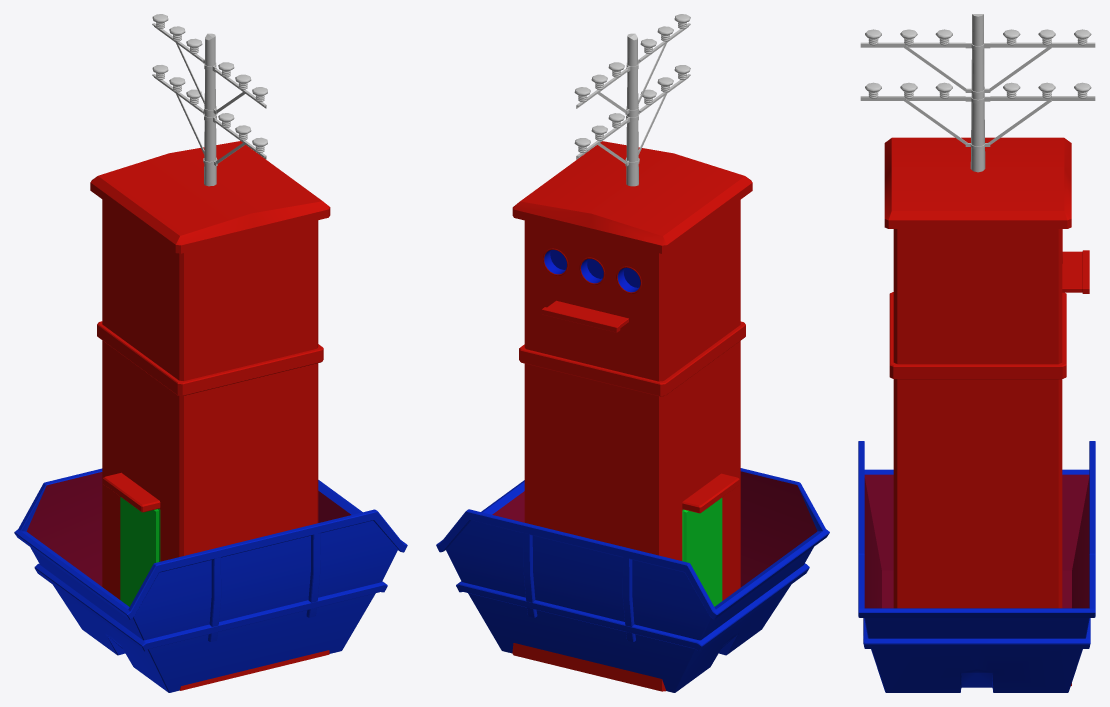
File: uploads_files_4021899_LOD_Pack_ObjectCampaign_1.fbx
The picture shows the model from 3 angles, left to right: view 1: azimuth 30°, elevation 25°; view 2: azimuth 150°, elevation 25°; view 3: azimuth 270°, elevation 25°; orthographic projection. The views are drawn at different scales.
Parts seen in each view (by area): view 1: Transfo_Big_Brick_Grey_LOD0, BigTrascan1_Blue, electric pole_Wood_1, electric pole_Wood_2branch; view 2: Transfo_Big_Brick_Grey_LOD0, BigTrascan1_Blue, electric pole_Wood_1, electric pole_Wood_2branch; view 3: Transfo_Big_Brick_Grey_LOD0, BigTrascan1_Blue, electric pole_Wood_1, electric pole_Wood_2branch.
Boxes of the visible parts, x1,y1,x2,y2 form: Transfo_Big_Brick_Grey_LOD0: [90, 141, 330, 690]; BigTrascan1_Blue: [14, 468, 407, 692]; electric pole_Wood_1: [152, 14, 267, 186]; electric pole_Wood_2branch: [152, 22, 267, 166]; Transfo_Big_Brick_Grey_LOD0: [512, 141, 752, 691]; BigTrascan1_Blue: [436, 468, 829, 692]; electric pole_Wood_1: [574, 14, 690, 186]; electric pole_Wood_2branch: [574, 17, 690, 166]; Transfo_Big_Brick_Grey_LOD0: [884, 137, 1089, 685]; BigTrascan1_Blue: [858, 441, 1095, 692]; electric pole_Wood_1: [860, 14, 1095, 172]; electric pole_Wood_2branch: [860, 14, 1095, 167].
Size of what is drawn, in the model's own units: 404 by 830 by 282.
